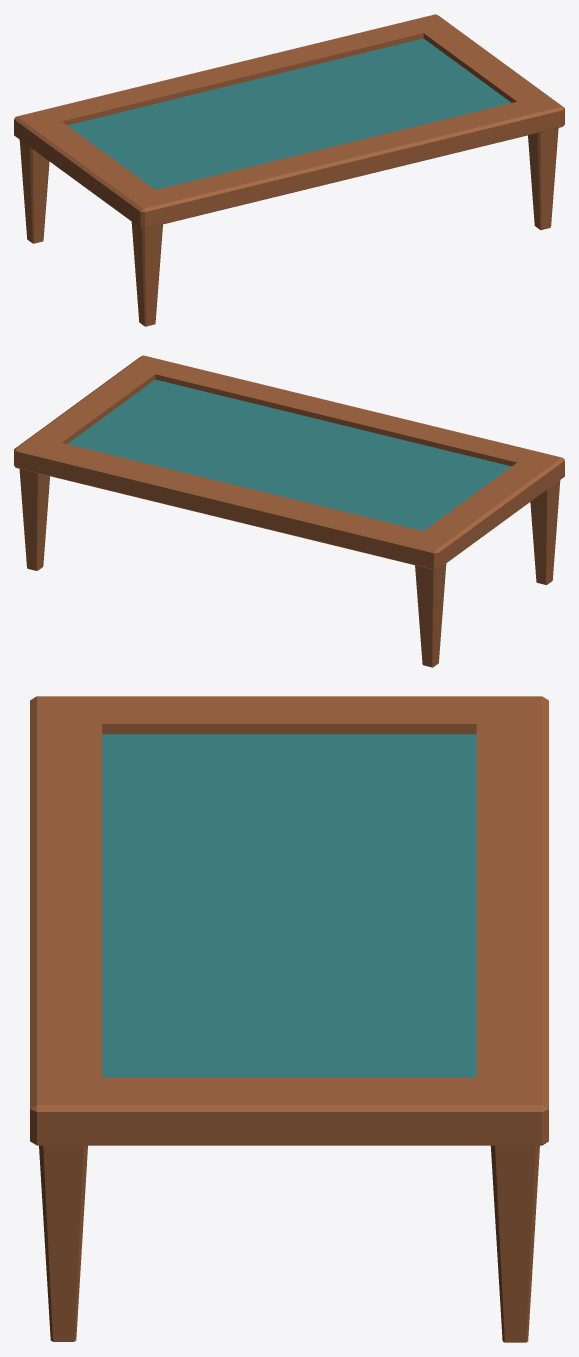
The picture shows the model from 3 angles, top to bottom: view 1: azimuth 30°, elevation 25°; view 2: azimuth 150°, elevation 25°; view 3: azimuth 270°, elevation 25°; orthographic projection. The views are drawn at different scales.
Visible parts, largest first — view 1: Table C; view 2: Table C; view 3: Table C.
Boxes of the visible parts, x1,y1,x2,y2 form: Table C: (14, 14, 564, 326); Table C: (14, 355, 564, 667); Table C: (30, 696, 548, 1342).
Size of the model in its own units: 6.73 by 1.85 by 3.56.
